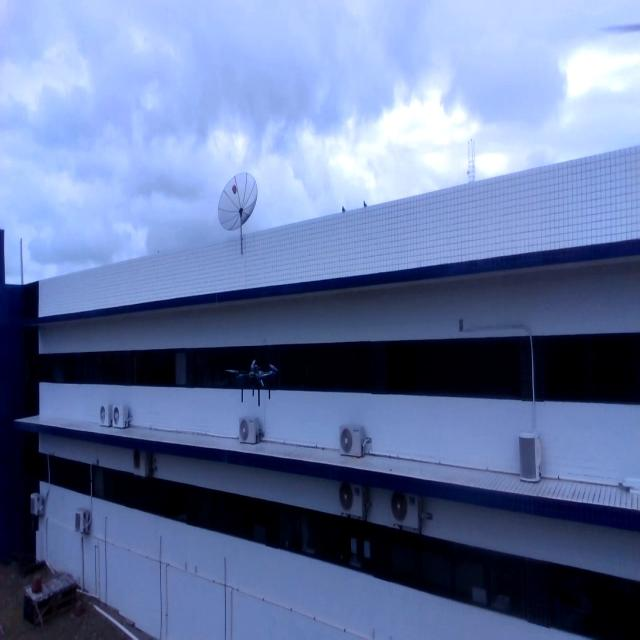-uav-: (224, 352, 280, 410)
